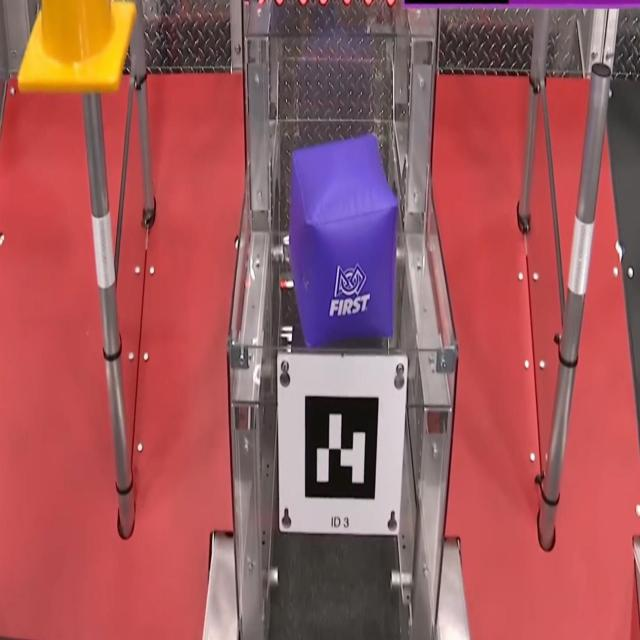frc_cone: (17, 0, 135, 89)
frc_cube: (285, 135, 398, 349)
